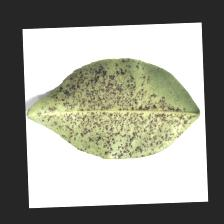canker: (75, 86, 160, 146)
